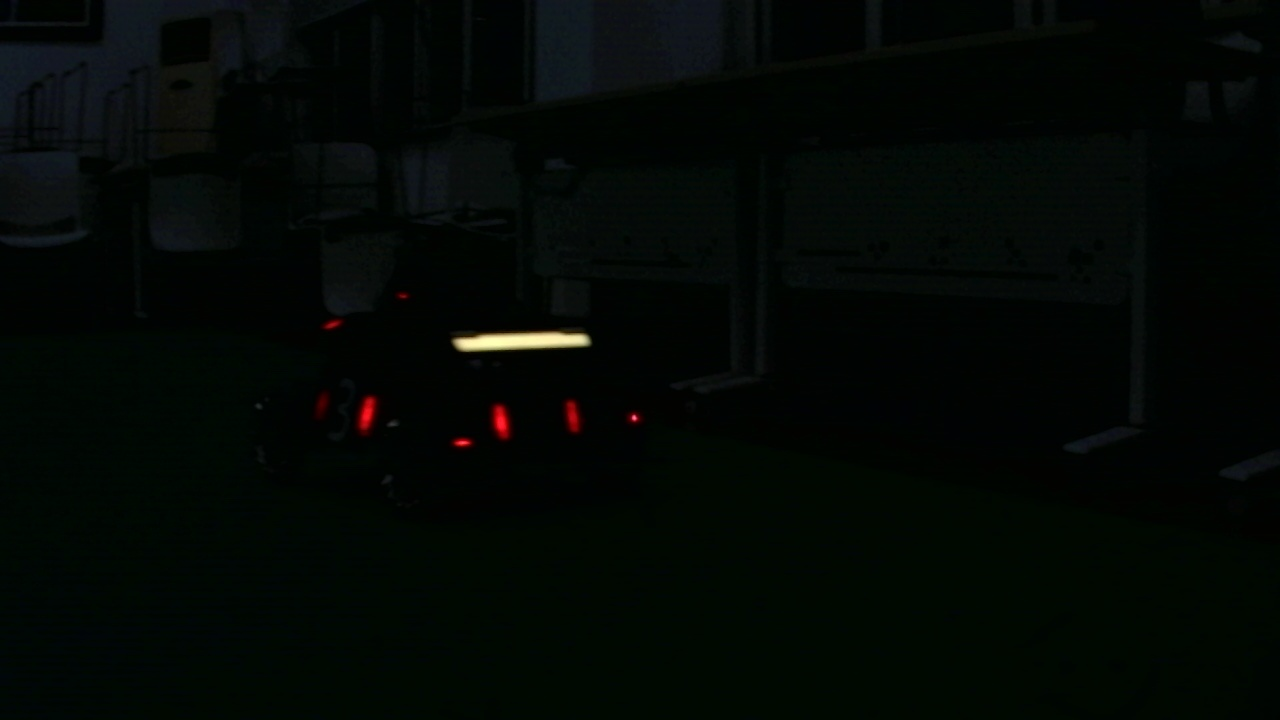lamp: (358, 383, 376, 437), (567, 397, 583, 444), (492, 397, 506, 443)
notpair1: (360, 386, 508, 445)
pair1: (492, 398, 584, 441)
